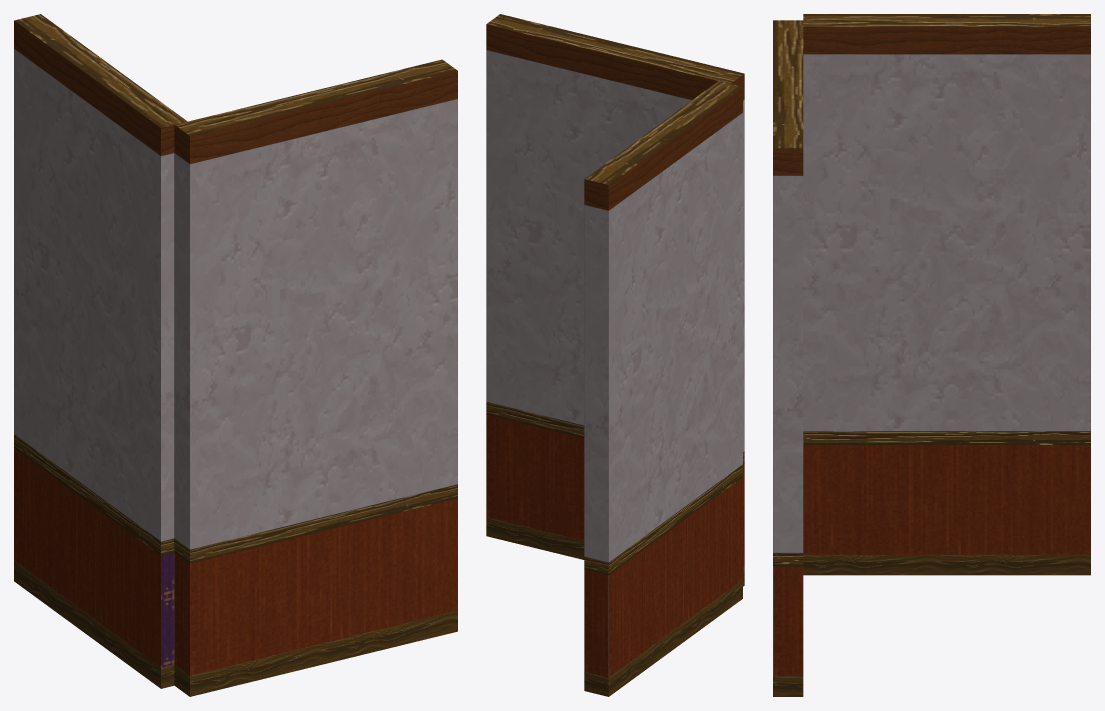
File: SM_Wall_T_Stone.fbx
3 views of the same model, side by side, from view 1: azimuth 30°, elevation 25°; view 2: azimuth 150°, elevation 25°; view 3: azimuth 270°, elevation 25° (orthographic). The views are drawn at different scales.
Visible parts, largest first — view 1: SM_Wall_T_Stone; view 2: SM_Wall_T_Stone; view 3: SM_Wall_T_Stone.
Boxes of the visible parts, x1,y1,x2,y2 form: SM_Wall_T_Stone: (14, 14, 457, 696); SM_Wall_T_Stone: (486, 14, 744, 696); SM_Wall_T_Stone: (773, 14, 1090, 696).
Bounding box in the file's own units: 2.1 × 4 × 2.1.
